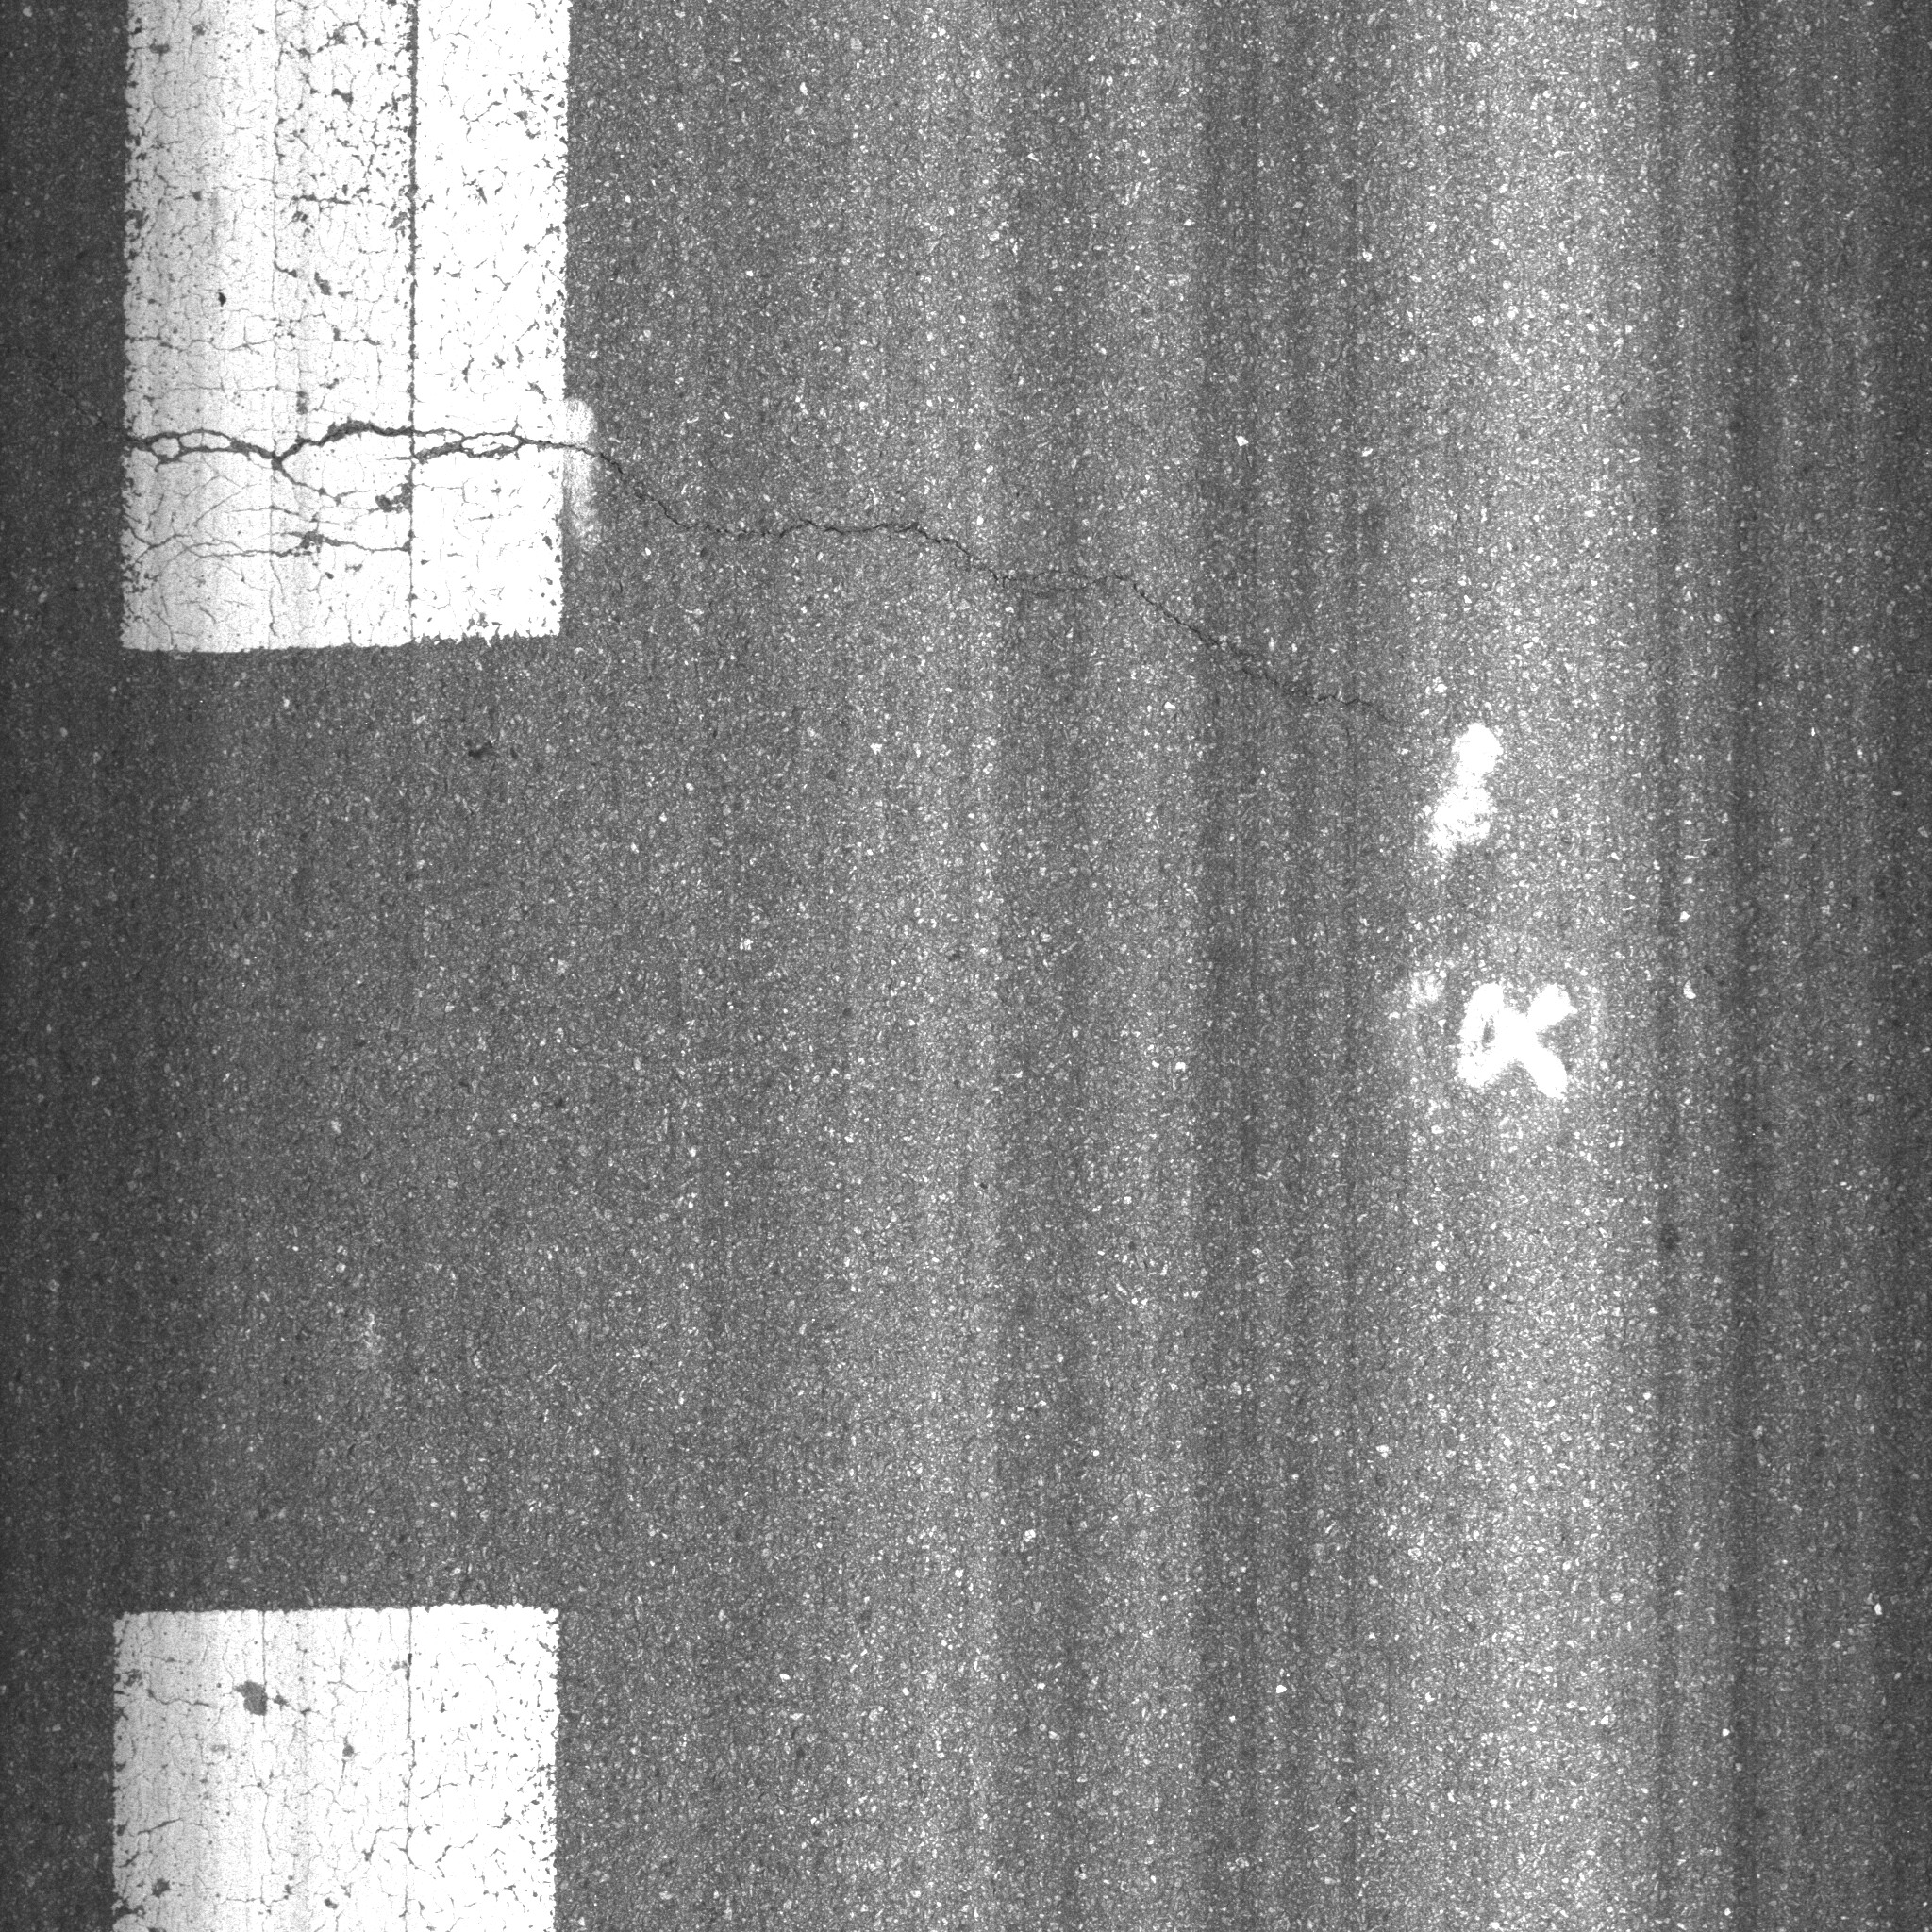transverse: (48, 364, 1405, 736)
